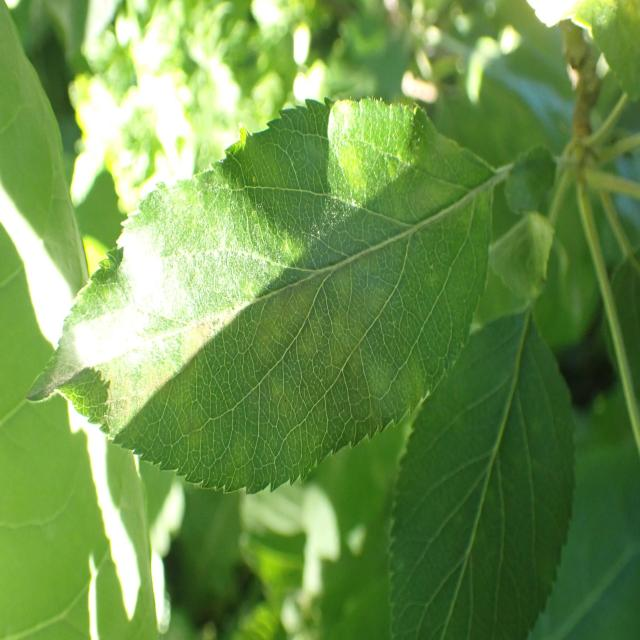scab: (113, 184, 477, 473)
